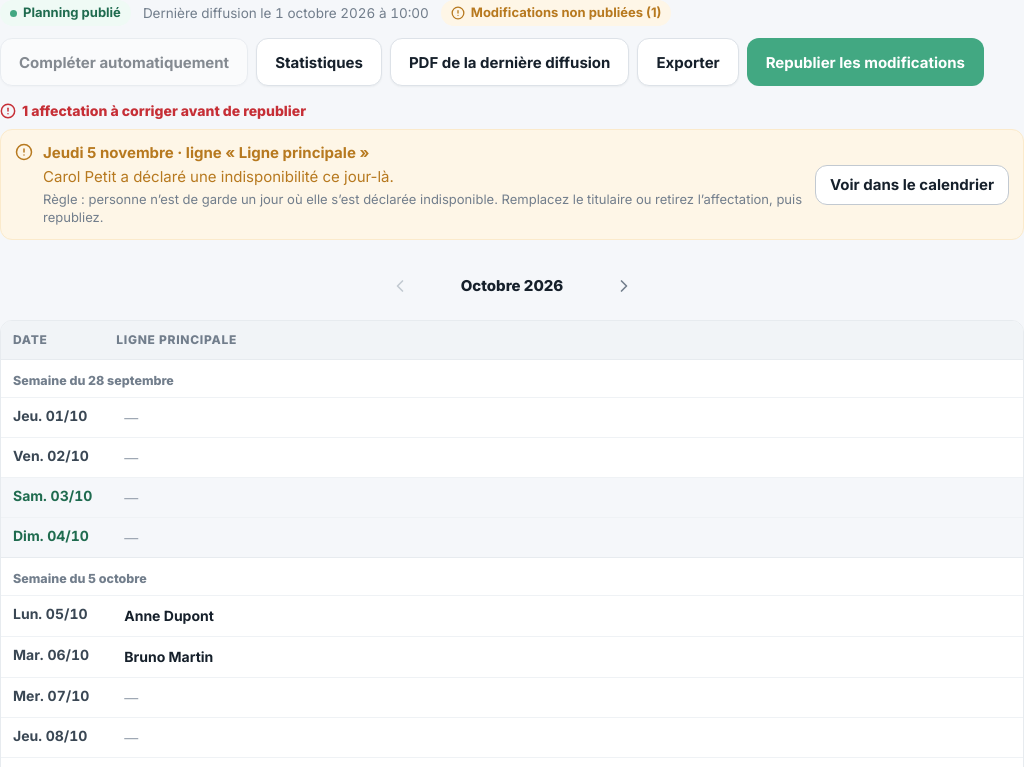
PlanningCalendar › assignments the preflight refuses (docs/decisions.md D133) › lists each one above the calendar and goes to it on "Voir dans le calendrier"
Expected: the text "1 affectation à corriger avant de republier" is shown, top-left (0, 102), bottom-right (306, 119)
Expected: the text "Jeudi 5 novembre · ligne « Ligne principale »" is shown, top-left (43, 143), bottom-right (369, 162)
Click the button "Voir dans le calendrier". click: (912, 185)
box: top-left (815, 165), bottom-right (1009, 205)
(page scrolled)
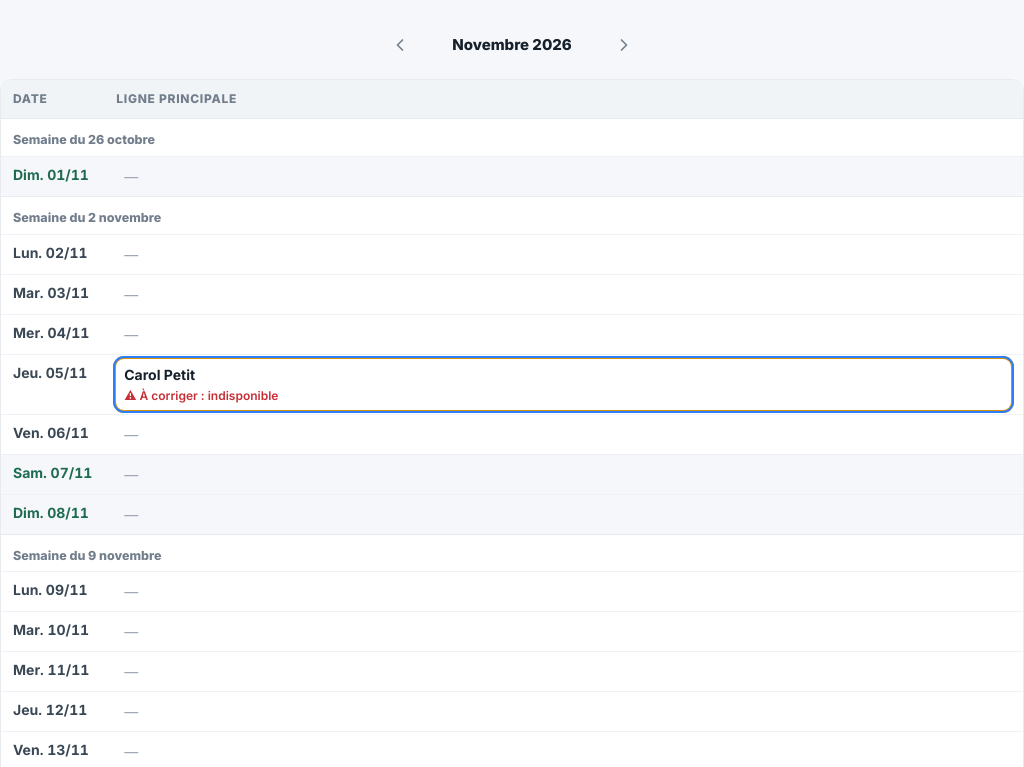
Expected: the text "Novembre 2026" is shown, top-left (452, 35), bottom-right (572, 54)
Expected: the button named "Modifier : Carol Petit, 2026-11-05 — à corriger : indisponible" shows "⚠ À corriger : indisponible", top-left (116, 359), bottom-right (1011, 410)
